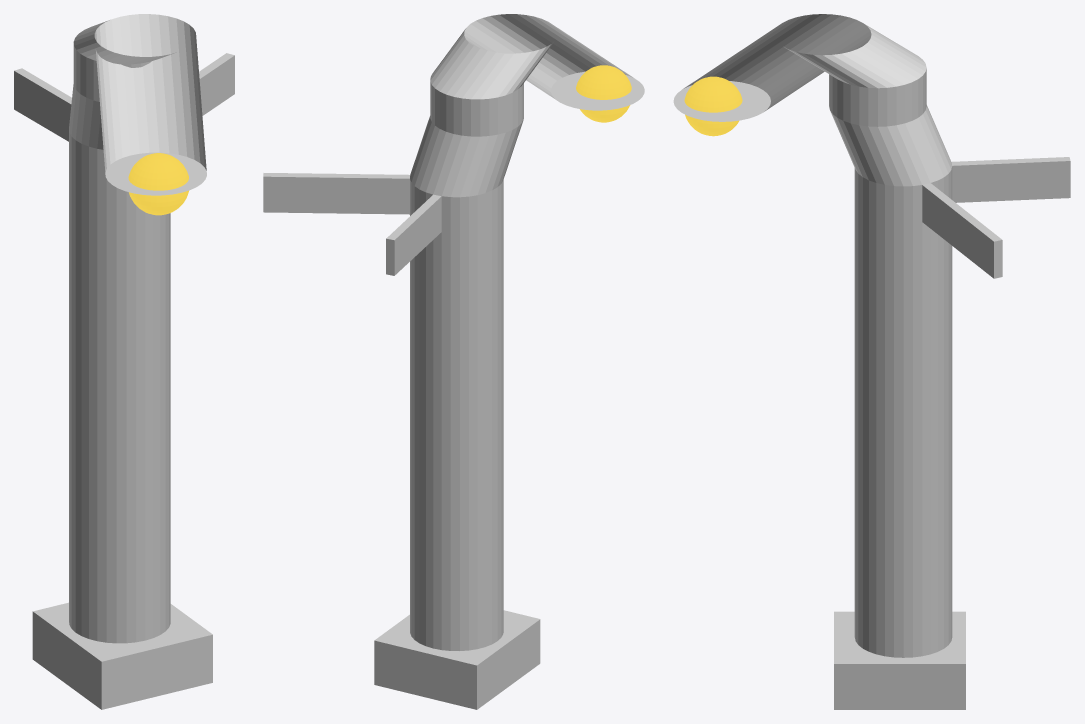
The model's file is Untitled.colonada.glb.
The picture shows the model from 3 angles, left to right: view 1: azimuth 30°, elevation 25°; view 2: azimuth 150°, elevation 25°; view 3: azimuth 270°, elevation 25°; orthographic projection. The views are drawn at different scales.
Visible parts, largest first — view 1: Cylinder, Cube, Sphere; view 2: Cylinder, Cube, Sphere; view 3: Cylinder, Cube, Sphere.
Boxes of the visible parts, x1,y1,x2,y2 form: Cylinder: (14,14,234,643); Cube: (32,602,212,709); Sphere: (128,153,188,215); Cylinder: (263,14,644,650); Cube: (374,610,540,709); Sphere: (576,65,631,122); Cylinder: (673,14,1070,657); Cube: (834,611,965,709); Sphere: (684,76,742,136).
Size of the model in its own units: 6 by 14.49 by 8.13.
